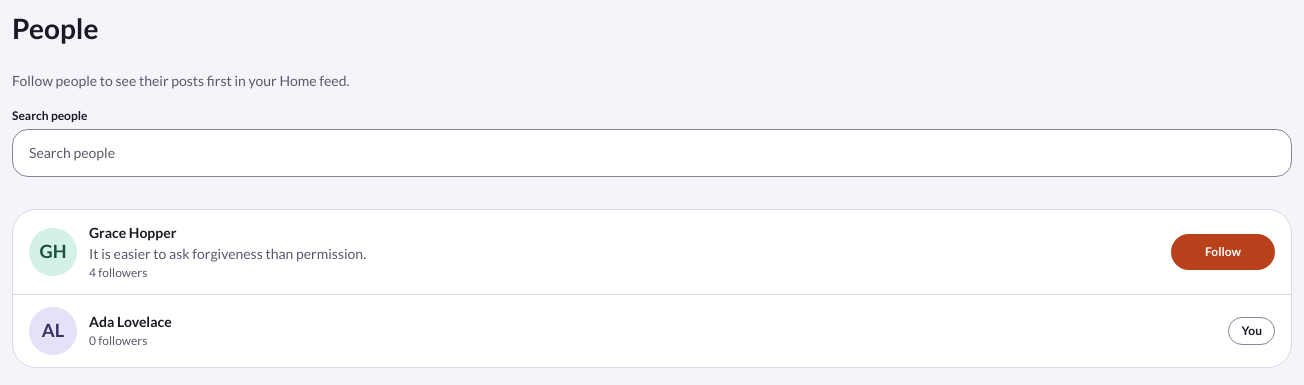
Users › rolls the follow back when the server refuses it
What coordinates should you click on to do the following:
click the button with aria-label "Follow Grace Hopper"
I would click on:
 (1223, 252)
Its box is [1171,234,1275,270].
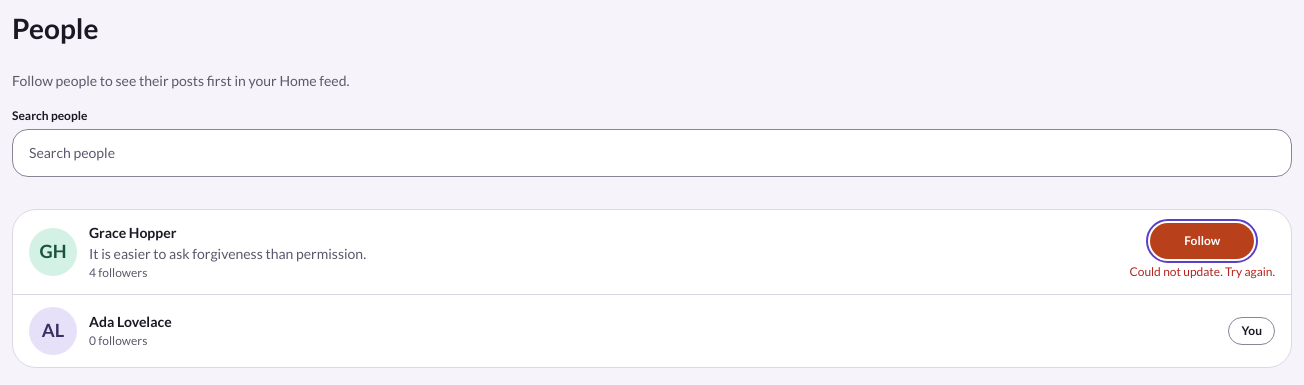
Expected: the text "4 followers" is shown, [89,265,147,280]
Now the message shows "Could not update", box [1130,264,1275,279]
